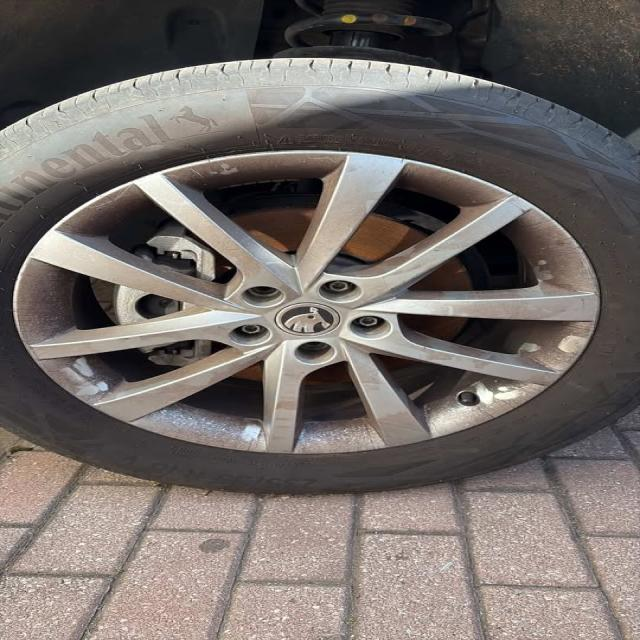jante: (14, 151, 602, 454)
parafuso: (315, 276, 367, 305), (345, 314, 394, 343), (237, 283, 289, 309), (225, 321, 275, 348), (292, 341, 339, 367)
roda: (0, 58, 640, 495)
